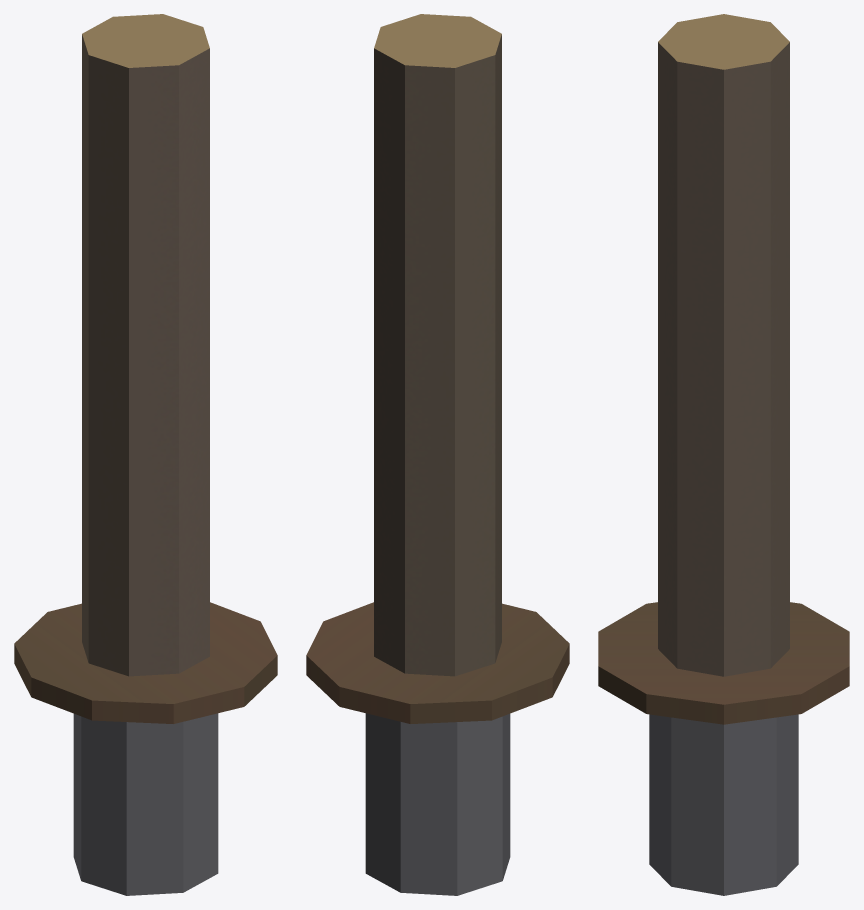
The model's file is Beam_5.fbx.
The picture shows the model from 3 angles, left to right: view 1: azimuth 30°, elevation 25°; view 2: azimuth 150°, elevation 25°; view 3: azimuth 270°, elevation 25°; orthographic projection.
Parts seen in each view (by area): view 1: pCylinder166; view 2: pCylinder166; view 3: pCylinder166.
Part boxes in pixels (x1,y1,x2,y2): pCylinder166: (14,14,277,895); pCylinder166: (306,14,569,895); pCylinder166: (598,14,849,895).
Size of the model in its own units: 120 by 412 by 114.
